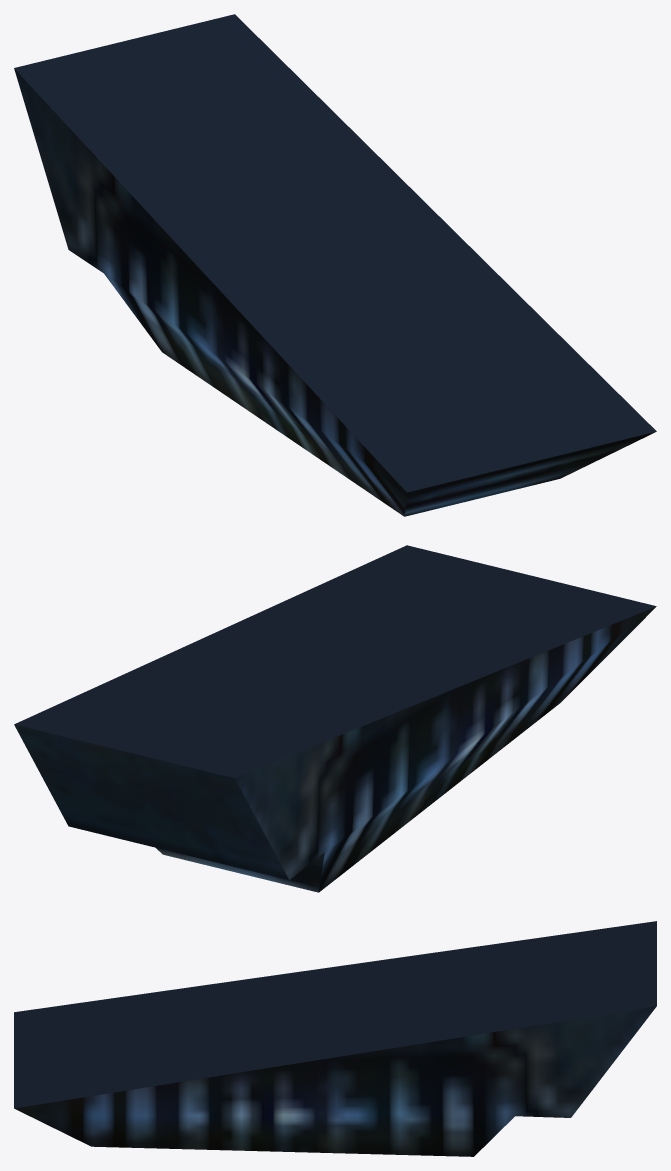
Rendered from gun04_reload.obj.
3 renders of one model, top to bottom at view 1: azimuth 30°, elevation 25°; view 2: azimuth 150°, elevation 25°; view 3: azimuth 270°, elevation 25°, orthographic. The views are drawn at different scales.
Parts seen in each view (by area): view 1: gun04_reload; view 2: gun04_reload; view 3: gun04_reload.
Part boxes in pixels (x1,y1,x2,y2): gun04_reload: (14, 14, 656, 516); gun04_reload: (14, 545, 656, 892); gun04_reload: (14, 921, 656, 1156).
Size of the model in its own units: 0.1099 by 0.087 by 0.3103.
1 material, 1 textured.
